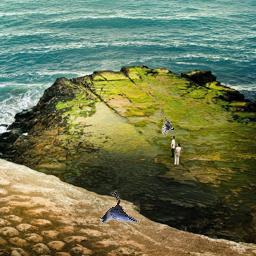Crow: (100, 190, 140, 223)
Sparrow: (162, 115, 174, 135)
